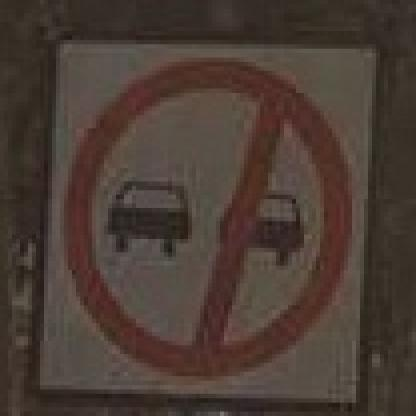No Overtaking: (33, 42, 382, 406)
